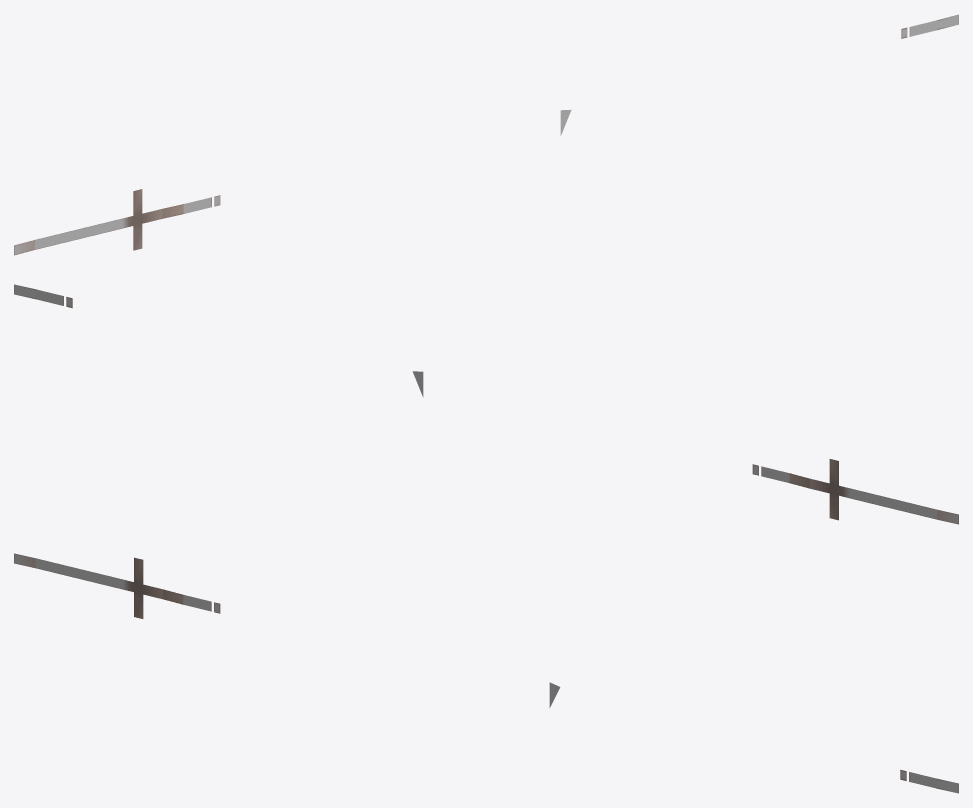
The model's file is SM_000315_merge_road04_red.fbx.
3 renders of one model, top to bottom at view 1: azimuth 30°, elevation 25°; view 2: azimuth 150°, elevation 25°; view 3: azimuth 330°, elevation 25°, orthographic.
Parts seen in each view (by area): view 1: SM_000315.001; view 2: SM_000315.001; view 3: SM_000315.001.
Part boxes in pixels (x1,y1,x2,y2): SM_000315.001: [14, 14, 958, 255]; SM_000315.001: [14, 284, 958, 524]; SM_000315.001: [14, 553, 958, 793].
Bounding box in the file's own units: 207 × 12.46 × 2.17.
